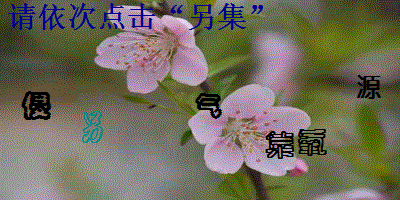text: (296, 127, 329, 158), (21, 90, 54, 120), (263, 130, 296, 160), (78, 110, 104, 145), (194, 90, 224, 120), (355, 73, 383, 100)
